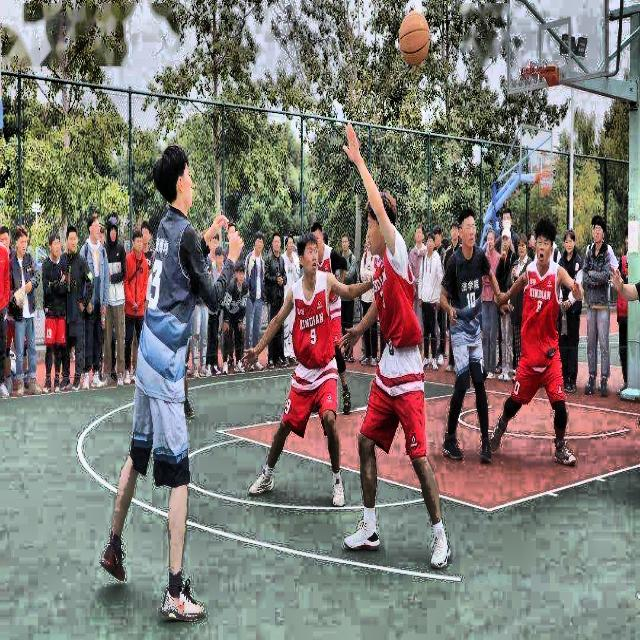board: (399, 12, 431, 66)
